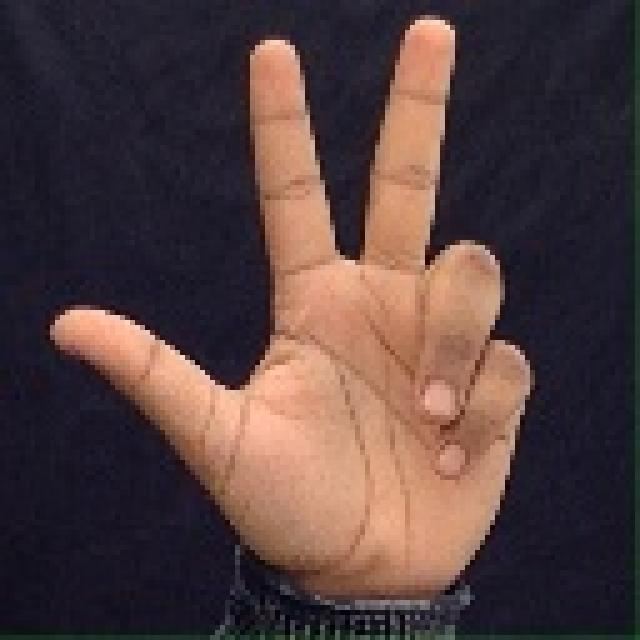Eight: (33, 12, 602, 630)
